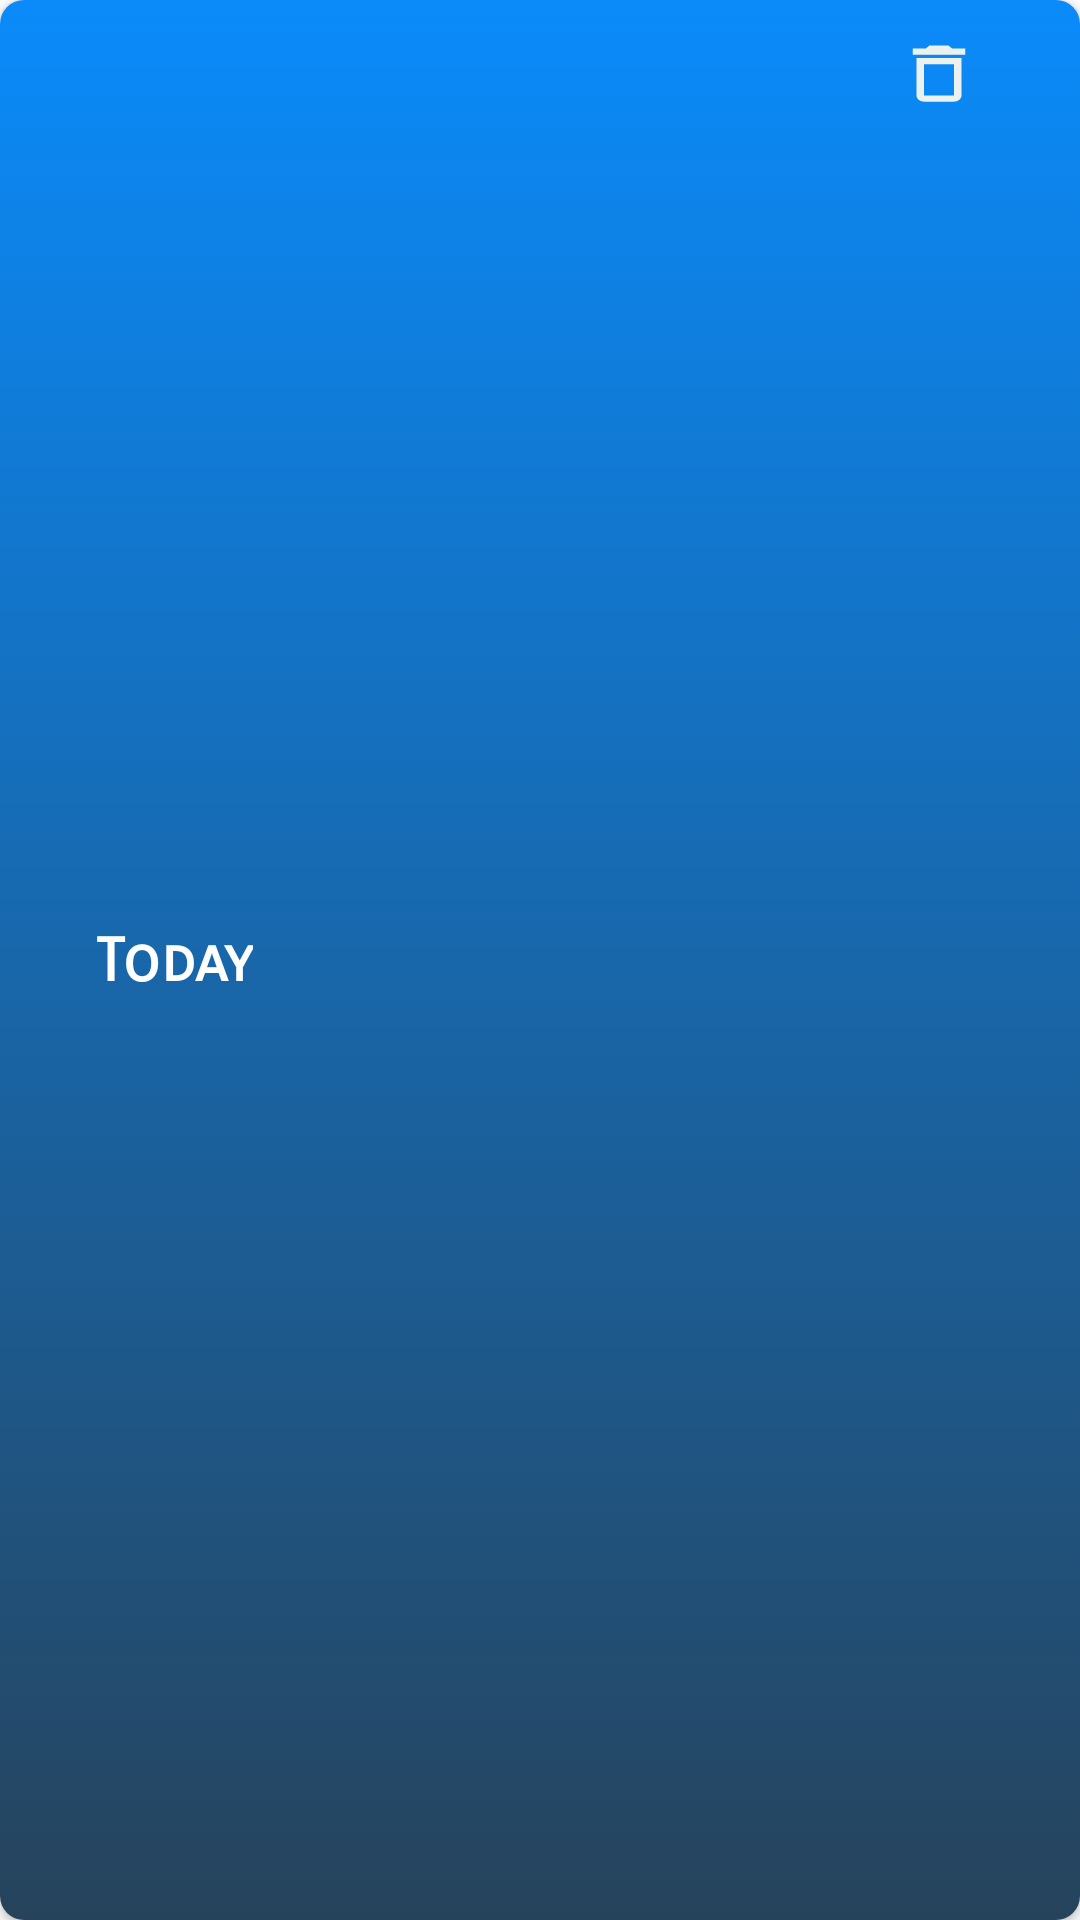

Where icons sit on this 1080x1920 app screen, as [x1=x1, y1=y1, x2=x2, y2=y2]:
delete: [x1=912, y1=45, x2=966, y2=102]
